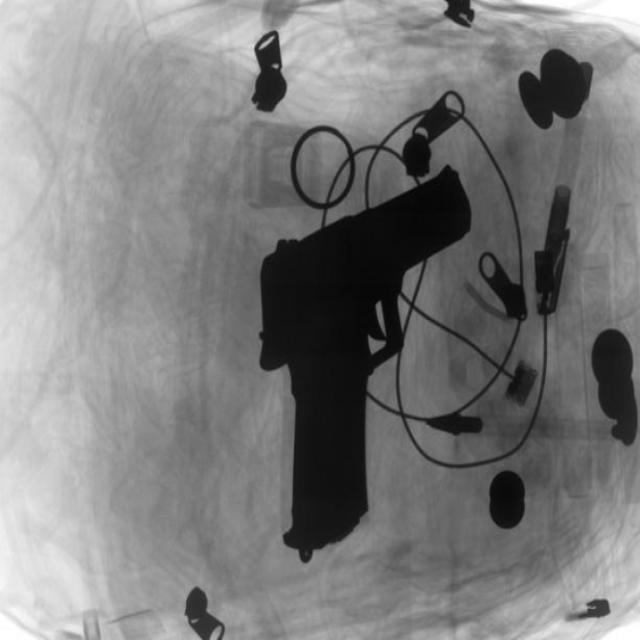GUN: (247, 126, 442, 566)
